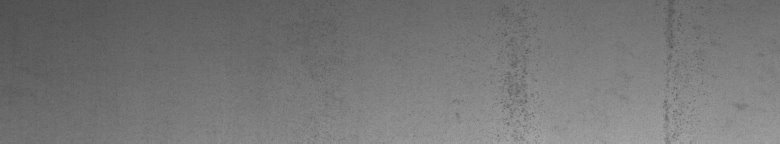ib: (456, 28, 535, 127)
